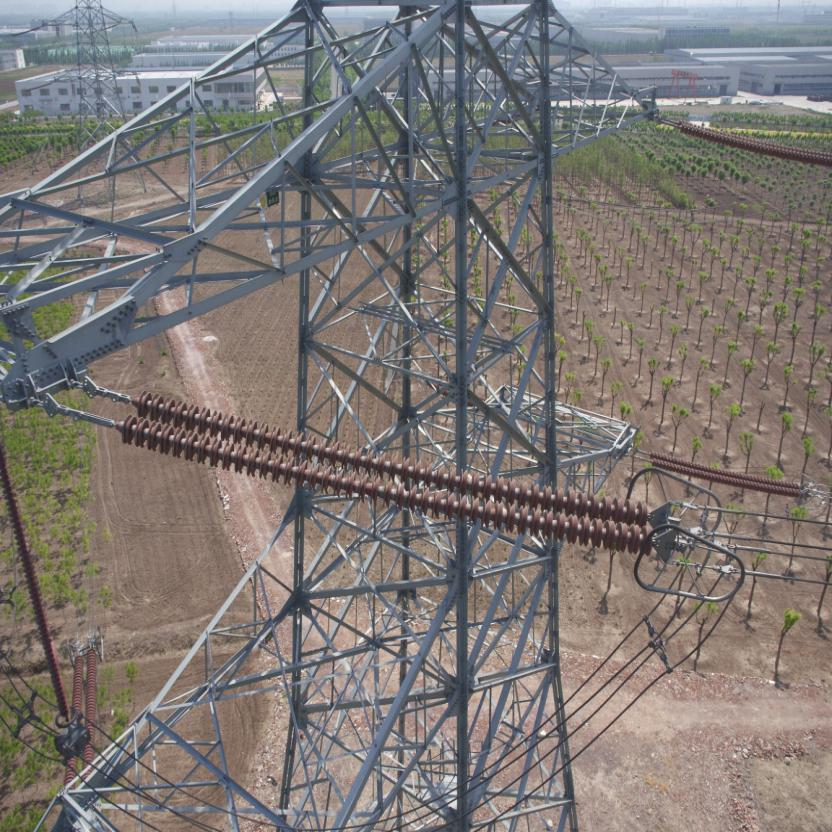insulator: (104, 384, 660, 558), (644, 449, 806, 497)
